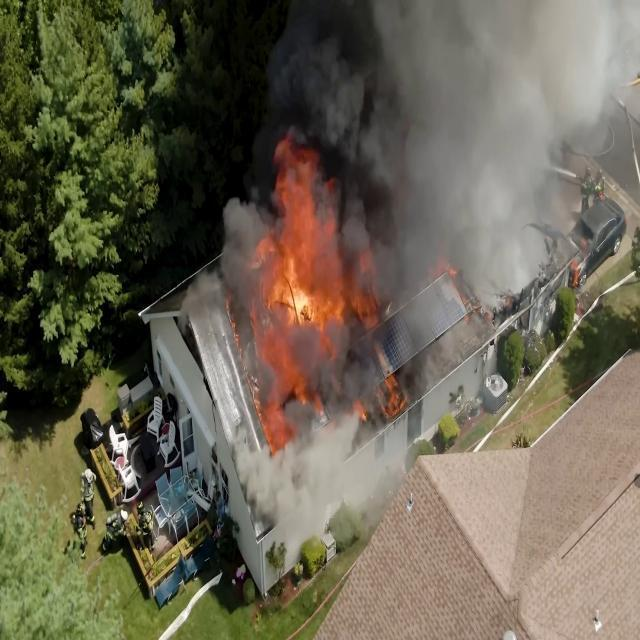Fire: (241, 135, 346, 348)
Smoke: (400, 0, 562, 234)
